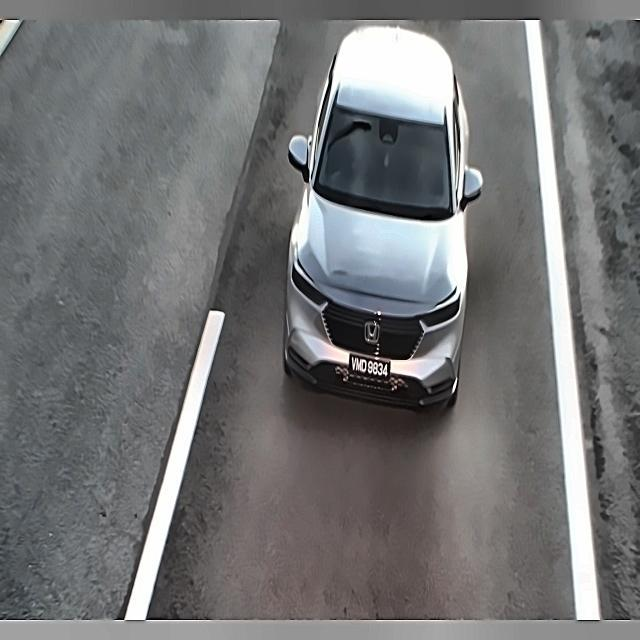car: (343, 345, 392, 387)
